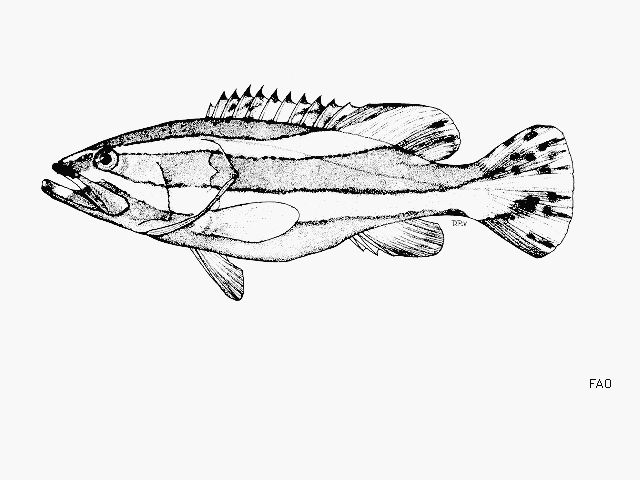fish: (41, 83, 575, 301)
